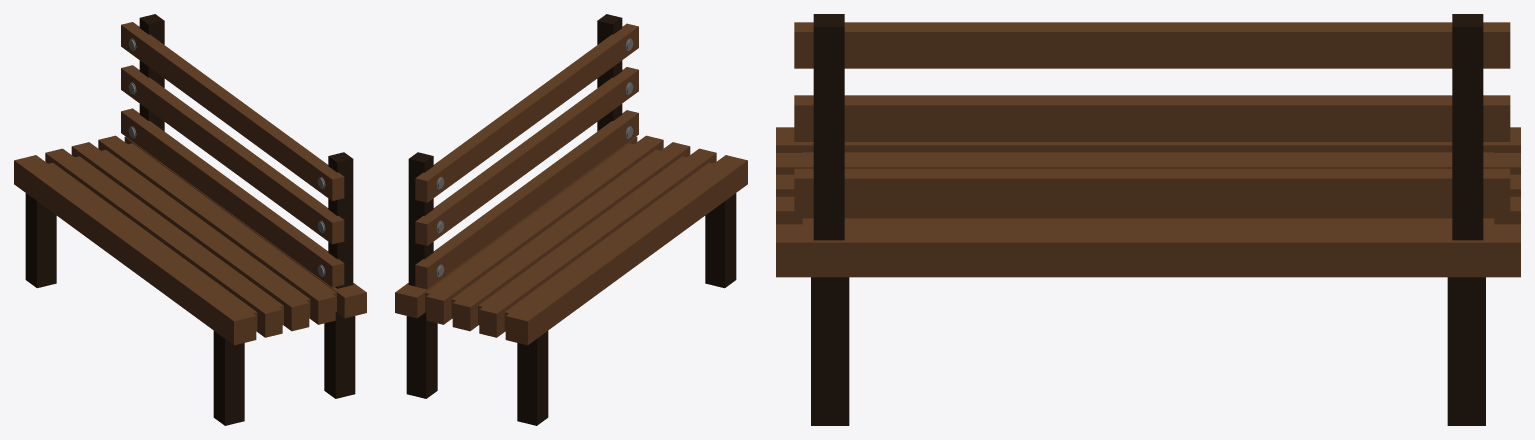
The model's file is P_KURSI TAMAN .fbx.
3 renders of one model, left to right at view 1: azimuth 30°, elevation 25°; view 2: azimuth 150°, elevation 25°; view 3: azimuth 270°, elevation 25°, orthographic. The views are drawn at different scales.
Visible parts, largest first — view 1: Circle; view 2: Circle; view 3: Circle.
Part boxes in pixels (box(x1,y1,x2,y2)): Circle: box(14, 14, 366, 425); Circle: box(395, 14, 747, 425); Circle: box(776, 14, 1520, 425).
Bounding box in the file's own units: 659 × 230 × 389.
